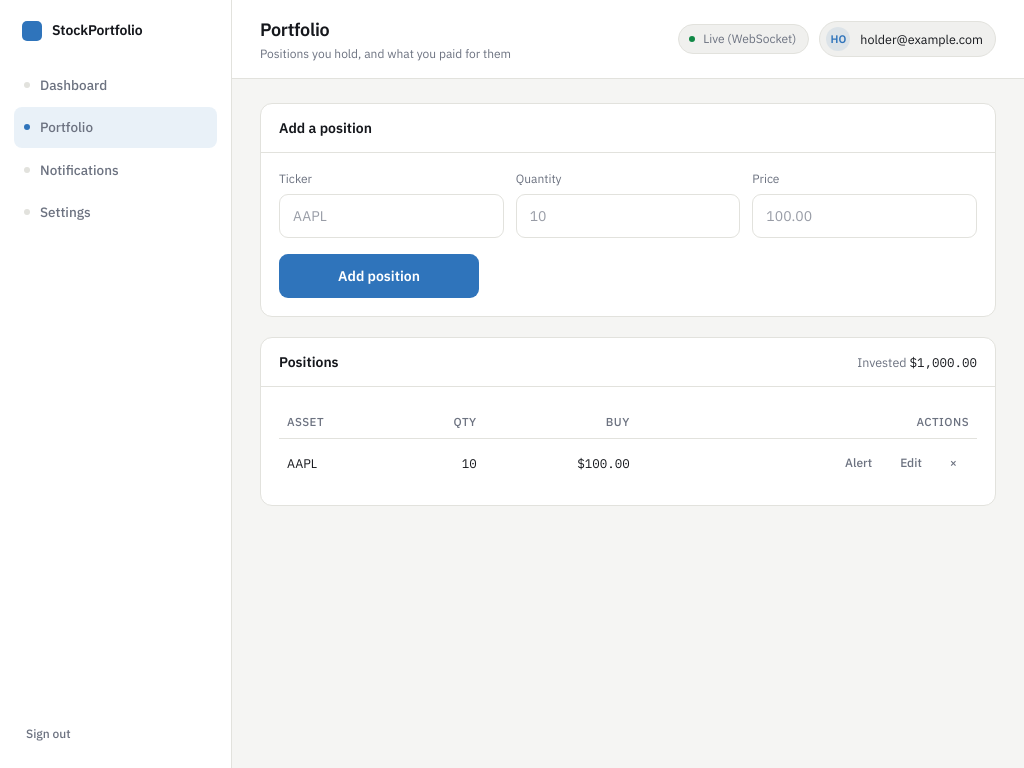
portfolio › corrects a row and shows the new values
Expected: the heading "Portfolio" is shown, [260,18,330,41]
Click the button with aria-label "edit aapl" at (911, 463), box [888,449,934,477]
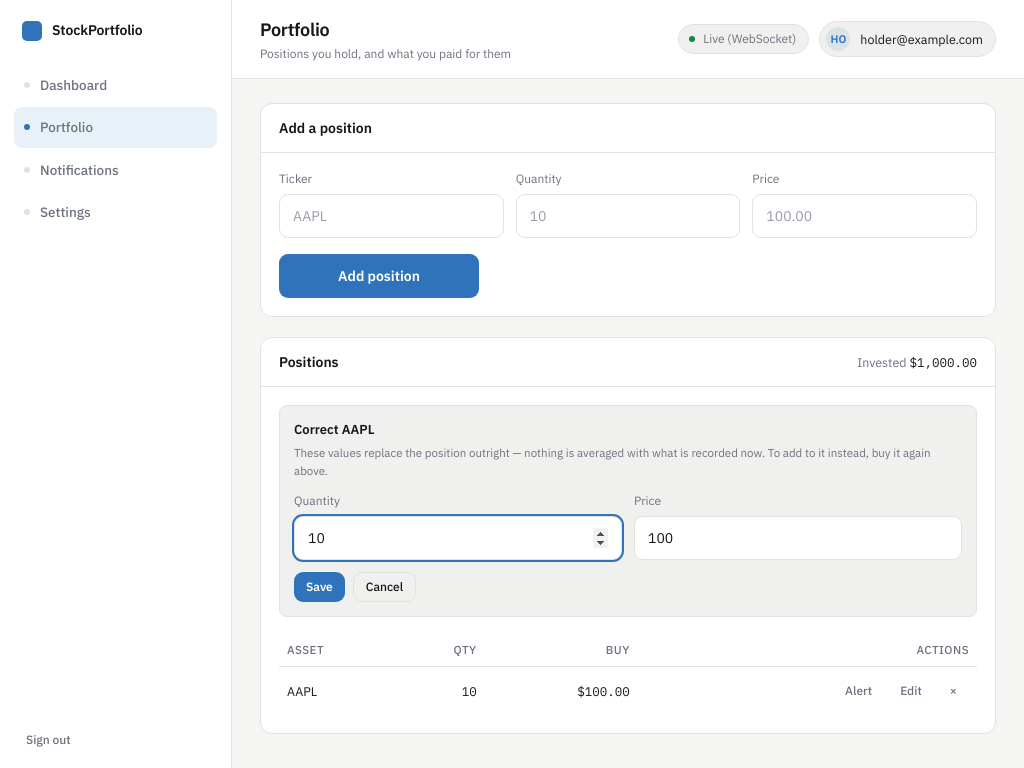
Replace the text in the number field labelled "Quantity" below "Correct AAPL" with "15" at (458, 538), box [294,516,622,560]
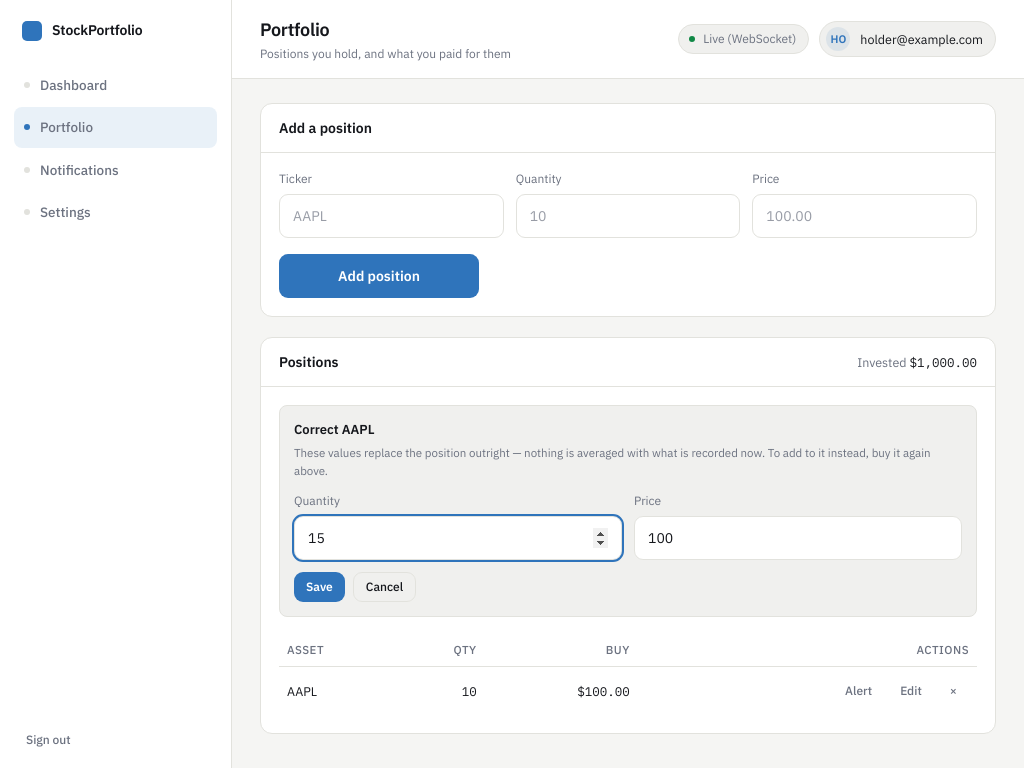
Replace the text in the number field labelled "Price" below "Correct AAPL" with "120" at (798, 538), box [634,516,962,560]
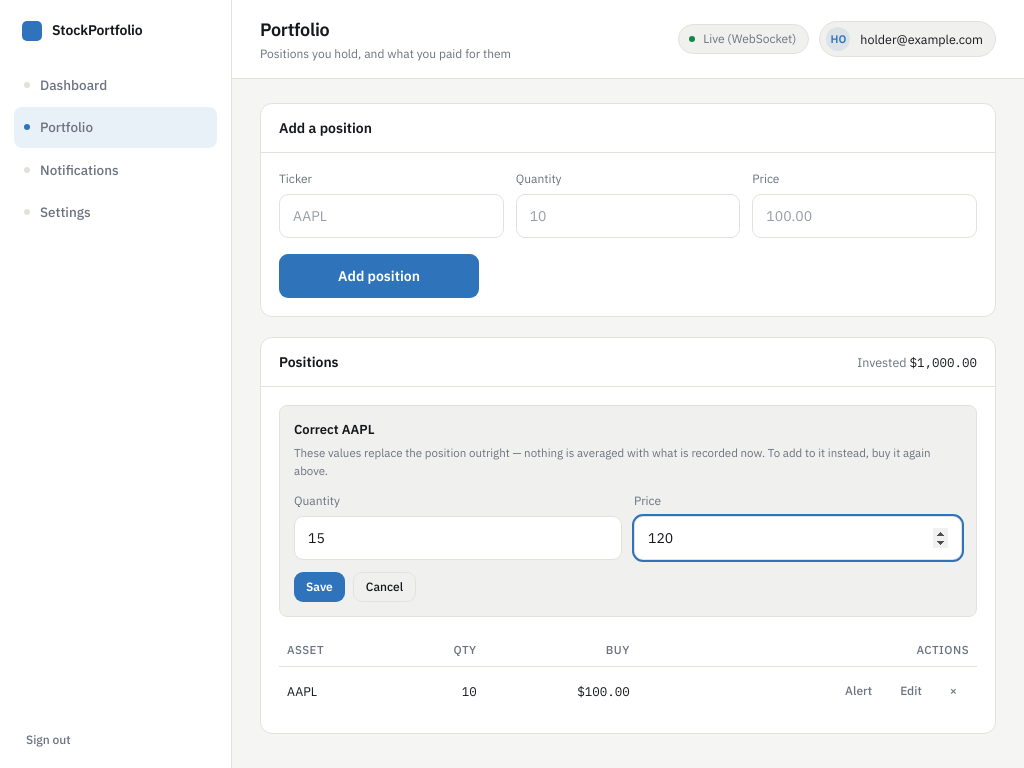
Click the button "Save" at (319, 587), box [294,572,345,602]
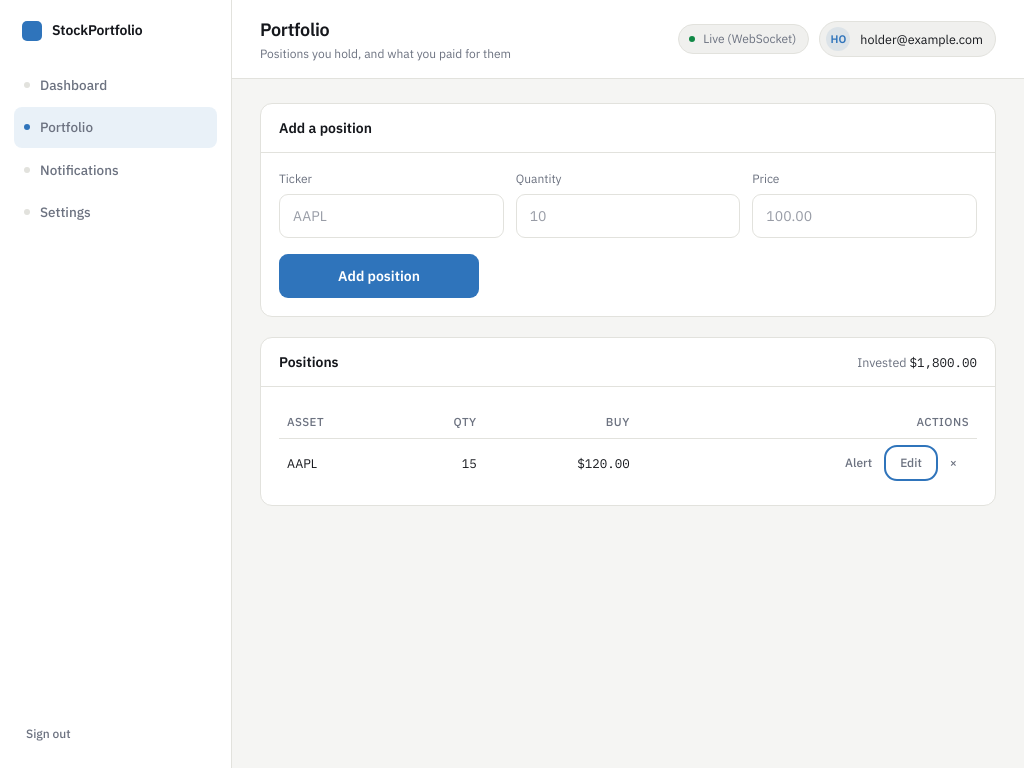
Expected: the text "15" is shown, [397,439,485,487]
Expected: the text "$120.00" is shown, [485,439,638,487]
Expected: the heading "Correct" is gone
